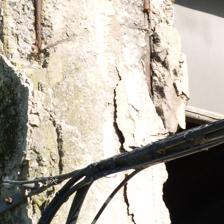Crack: (26, 0, 145, 113), (22, 79, 131, 143), (51, 21, 86, 118), (5, 0, 45, 43)
